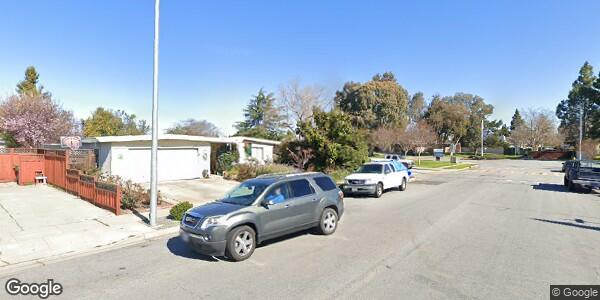Steel_Pole: (142, 1, 165, 229)
